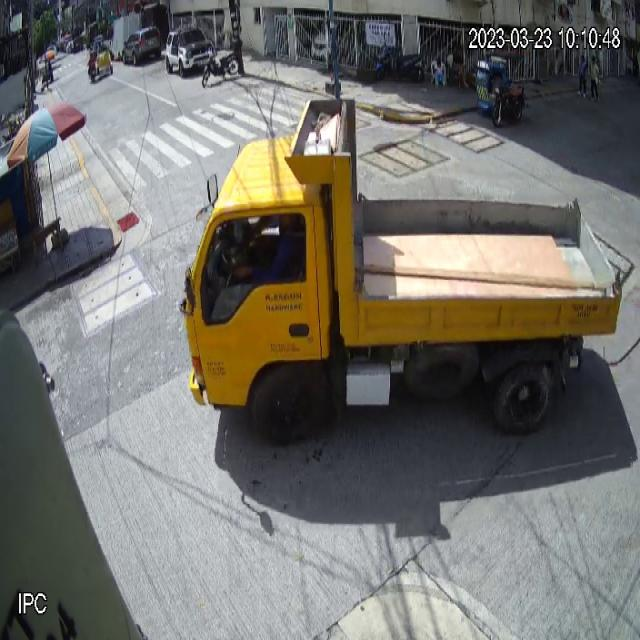Motorcycle: (202, 38, 244, 88)
Tricycle: (474, 49, 526, 128)
Truck: (181, 91, 625, 448)
